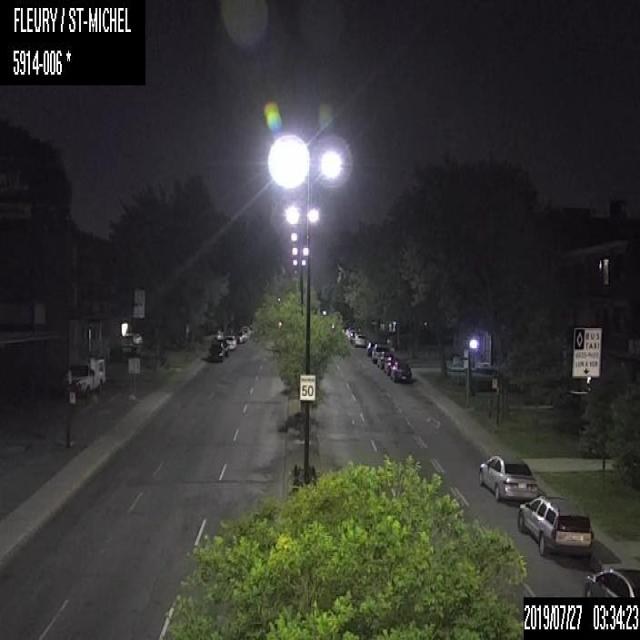vehicle: (516, 494, 594, 556), (478, 453, 538, 500), (582, 563, 639, 596), (64, 358, 104, 395), (390, 360, 410, 381), (371, 342, 388, 362), (208, 340, 224, 361), (383, 356, 399, 374), (377, 351, 392, 369), (225, 334, 236, 349), (353, 333, 365, 346), (223, 340, 229, 356), (365, 341, 371, 355)
